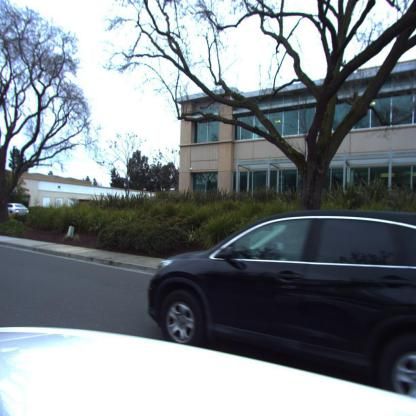car: (142, 207, 416, 405), (7, 202, 29, 218)
